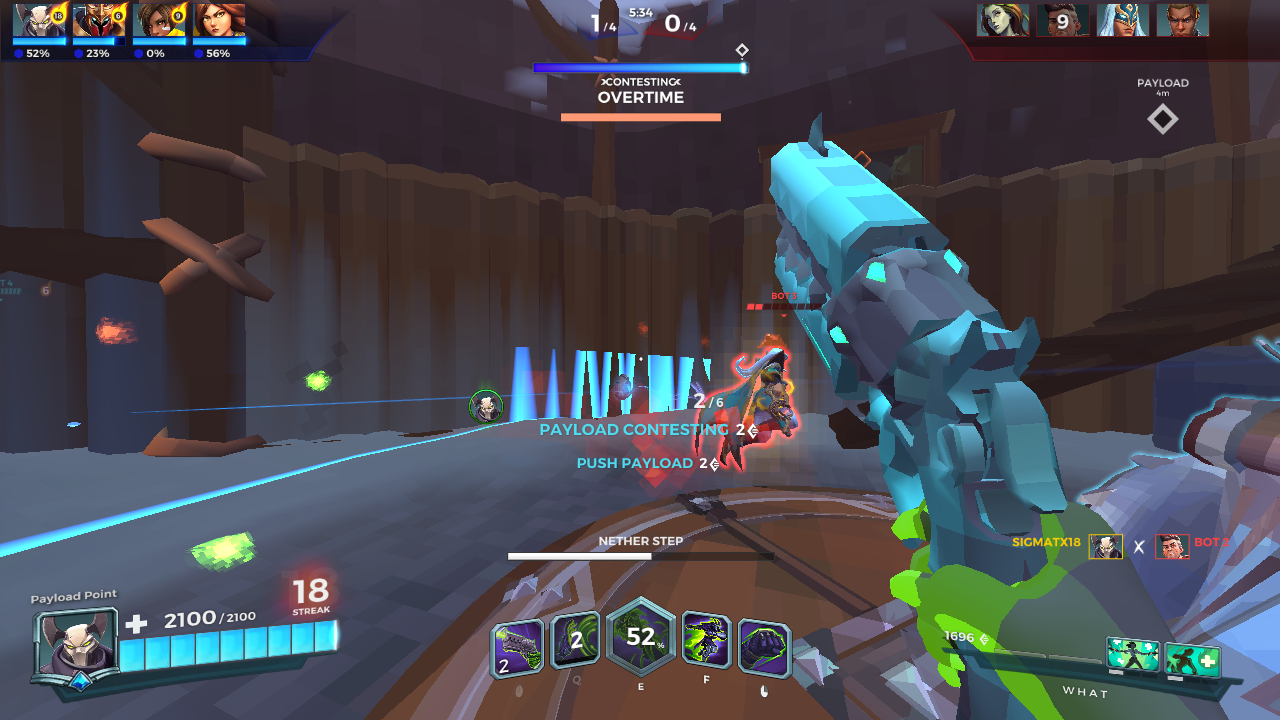model: (703, 340, 794, 478)
